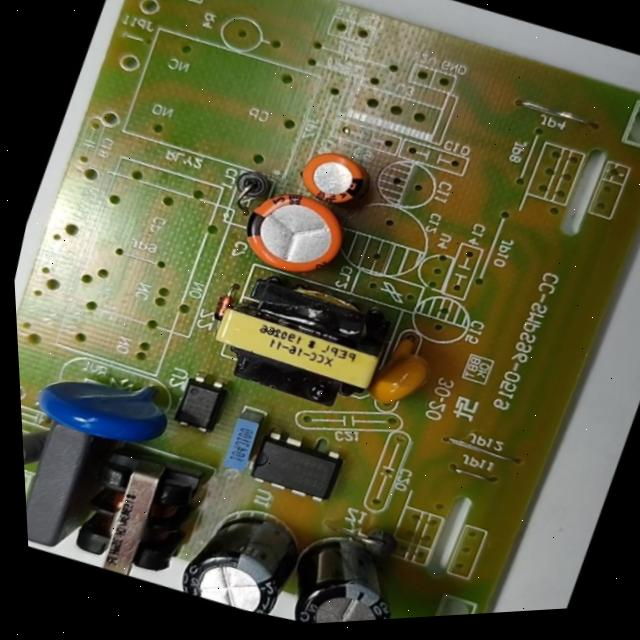Cap1: (226, 171, 362, 294)
Cap2: (286, 138, 376, 219)
Cap3: (167, 485, 315, 625)
Cap4: (270, 514, 423, 626)
MOSFET: (235, 417, 354, 518)
Mov: (21, 342, 185, 466)
Resistor: (21, 408, 50, 487)
Transformer: (187, 246, 411, 432), (50, 420, 221, 597)
